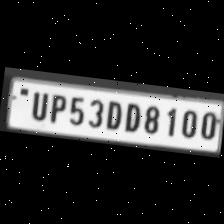0: (176, 106, 200, 139), (196, 107, 219, 140)
1: (159, 104, 180, 138)
3: (83, 94, 105, 130)
5: (63, 92, 87, 127)
8: (139, 101, 162, 136)
D: (119, 99, 142, 134), (102, 96, 124, 132)
P: (44, 90, 66, 124)
U: (25, 88, 50, 122)
